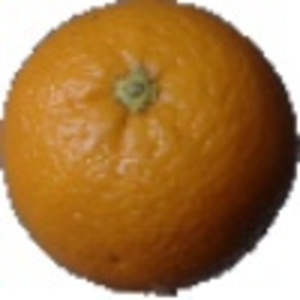laranja: (4, 3, 295, 296)
